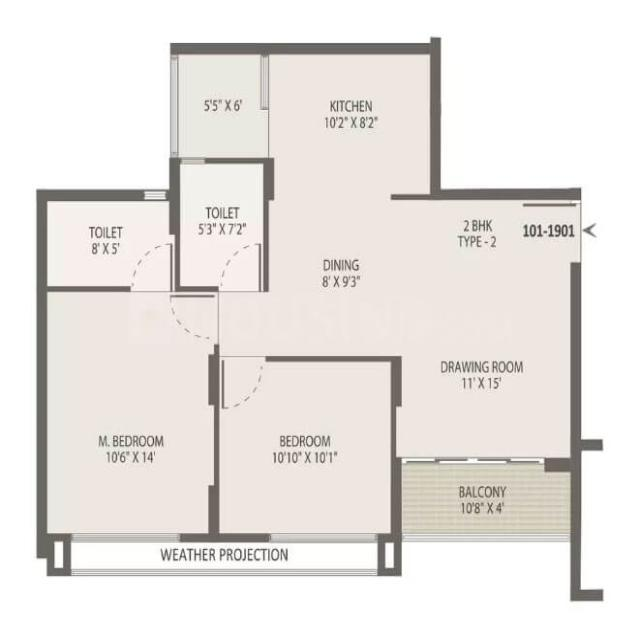Balcony-Sitout: (402, 463, 571, 535)
Bedroom: (217, 359, 394, 537)
Bedroom with Toilet: (42, 195, 215, 536)
Dining: (263, 193, 401, 365)
Enterance-Foyer: (516, 199, 598, 263)
Kitchen: (269, 53, 430, 193)
Living: (402, 200, 571, 457)
Toilet: (47, 200, 169, 287), (179, 163, 263, 287)
Utility: (178, 54, 260, 158)
